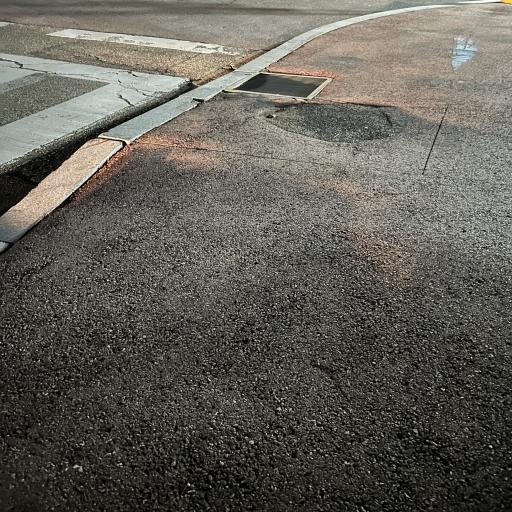drain: (225, 72, 332, 99)
